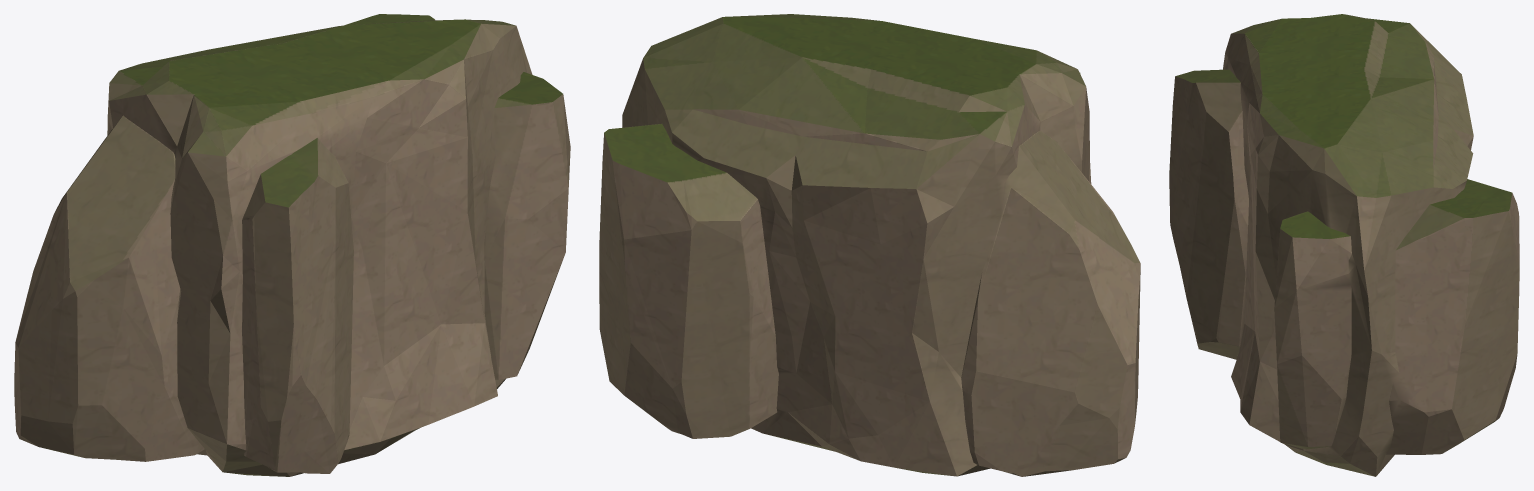
File: SM_Env_Rock_Cliff_02.glb
3 renders of one model, left to right at view 1: azimuth 30°, elevation 25°; view 2: azimuth 150°, elevation 25°; view 3: azimuth 270°, elevation 25°, orthographic. The views are drawn at different scales.
Visible parts, largest first — view 1: SM_Env_Rock_Cliff_02; view 2: SM_Env_Rock_Cliff_02; view 3: SM_Env_Rock_Cliff_02.
Boxes of the visible parts, bbox=[...] form: SM_Env_Rock_Cliff_02: bbox=[14, 14, 570, 476]; SM_Env_Rock_Cliff_02: bbox=[599, 14, 1140, 476]; SM_Env_Rock_Cliff_02: bbox=[1169, 14, 1519, 476].
Size of the model in its own units: 11.85 by 8.18 by 7.99.
Materials: 1 (1 with a texture image).
